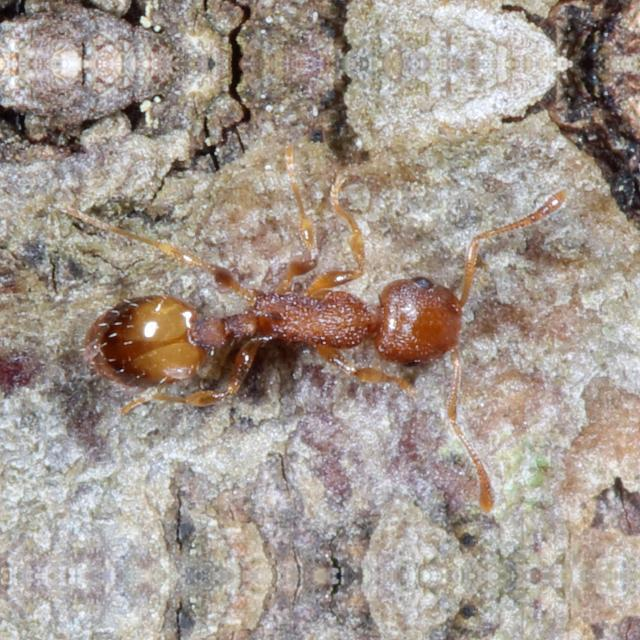Temnothorax: (47, 210, 545, 434)
